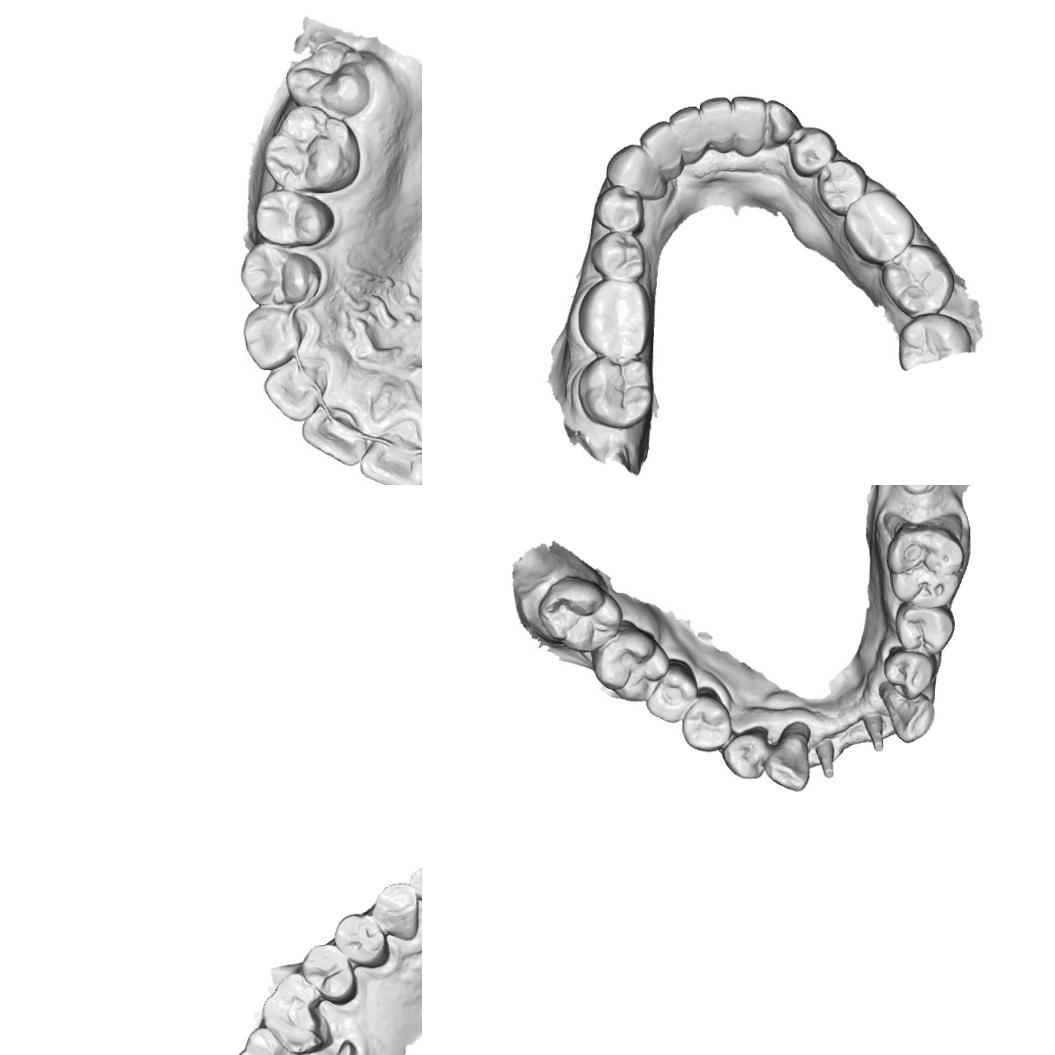abutment: (860, 710, 888, 754), (813, 736, 838, 779)
canine: (241, 300, 309, 374), (877, 679, 937, 744), (762, 720, 814, 793), (601, 142, 668, 198), (371, 881, 420, 943), (762, 98, 804, 150)
implant: (896, 485, 939, 496)
incisor: (300, 396, 372, 470), (261, 357, 330, 424), (358, 422, 422, 485), (638, 120, 684, 182), (668, 99, 708, 167), (698, 92, 736, 158), (730, 94, 766, 158), (408, 861, 422, 915)
molar: (262, 104, 362, 196), (884, 522, 968, 612), (283, 36, 372, 118), (589, 618, 672, 704), (576, 276, 655, 364), (536, 574, 624, 653), (257, 969, 331, 1055), (575, 354, 655, 431), (879, 242, 956, 319), (842, 186, 916, 266), (642, 656, 700, 724), (231, 1024, 312, 1055)
premolar: (238, 242, 321, 308), (253, 189, 335, 250), (299, 942, 358, 1007), (893, 602, 959, 656), (332, 911, 390, 970), (679, 693, 734, 754), (814, 158, 870, 217), (588, 230, 648, 284), (720, 722, 772, 780), (591, 182, 646, 235), (882, 648, 938, 700), (786, 124, 838, 179)
